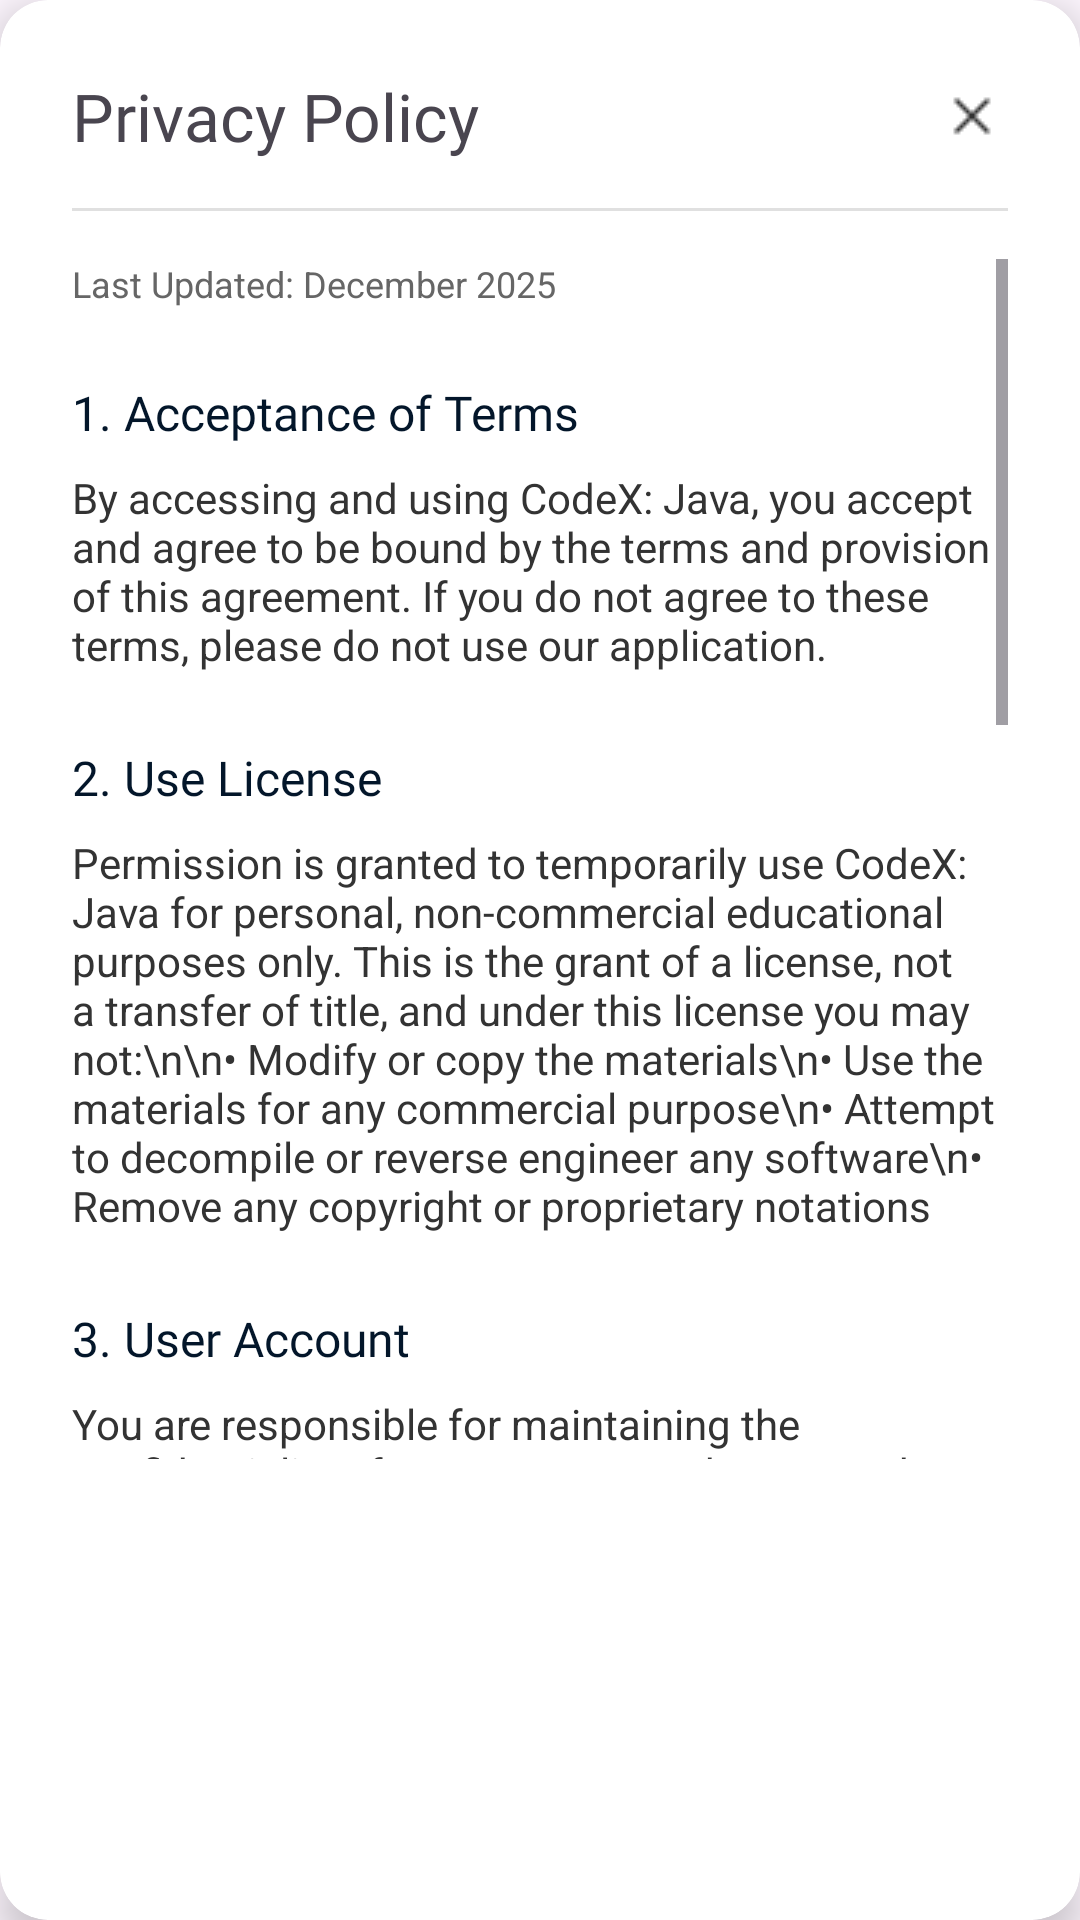

Where icons sit on this 1080 × 1920 app screen, as [x1,y1,x2,y2]:
Close: [953,97,991,135]
